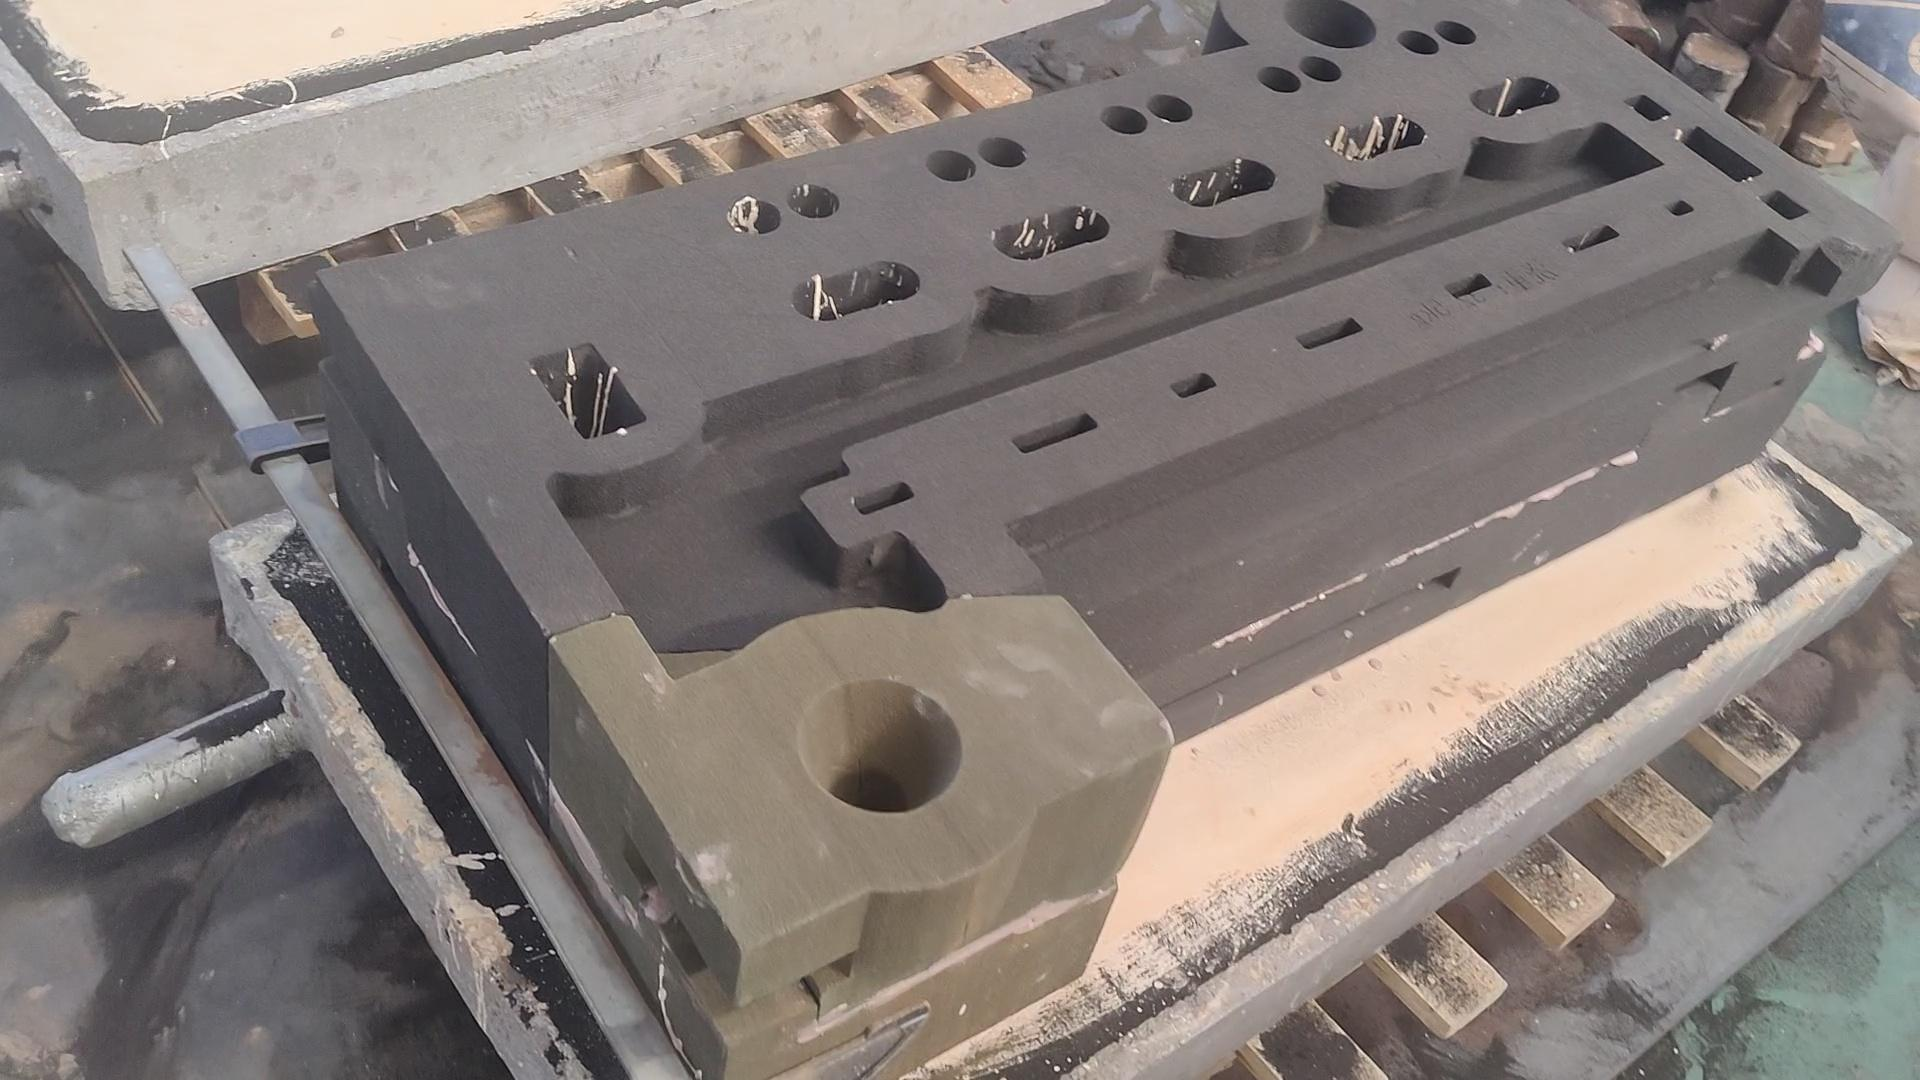pouring hole: (796, 679, 964, 812), (1282, 1, 1377, 50)
